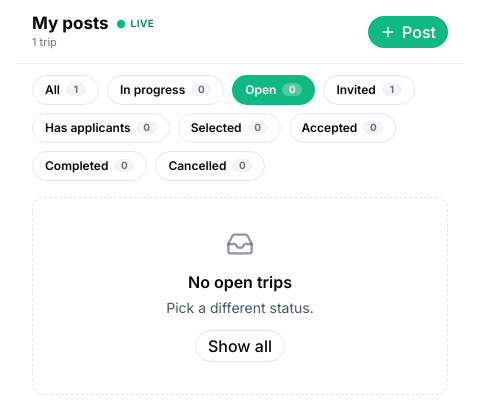
Scenario: PostedTripsPage › shows an "invited" badge on cards with pending invitations (no "View invites" link — invitees live on the trip detail page)
Click the button "Invited 1" at x=369, y=90, box x1=324 y1=75 x2=415 y2=105
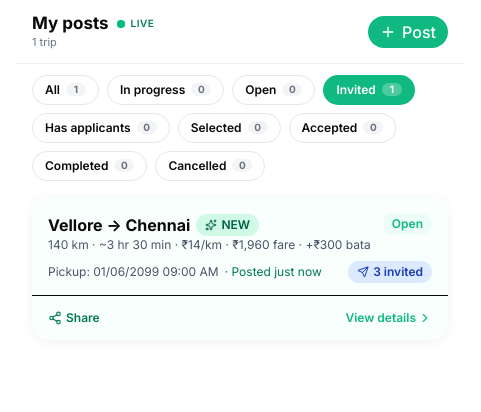
Expected: the text "3 invited" is shown, x1=348 y1=261 x2=432 y2=283
